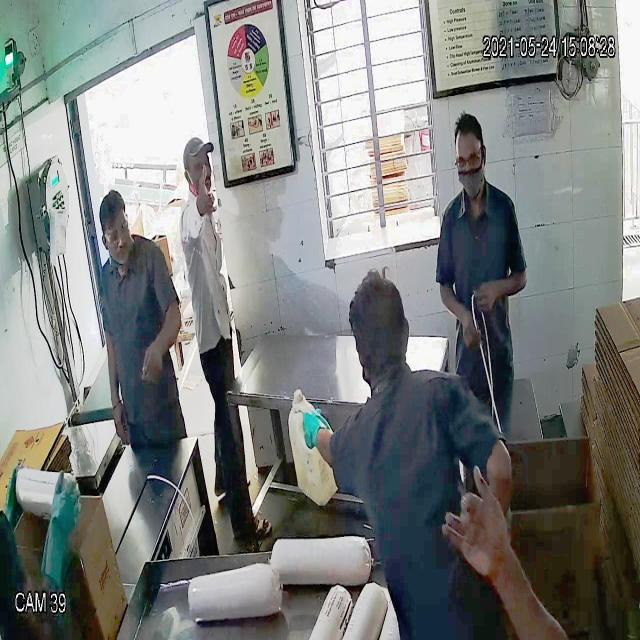glasses: (448, 142, 488, 180), (98, 215, 134, 250)
